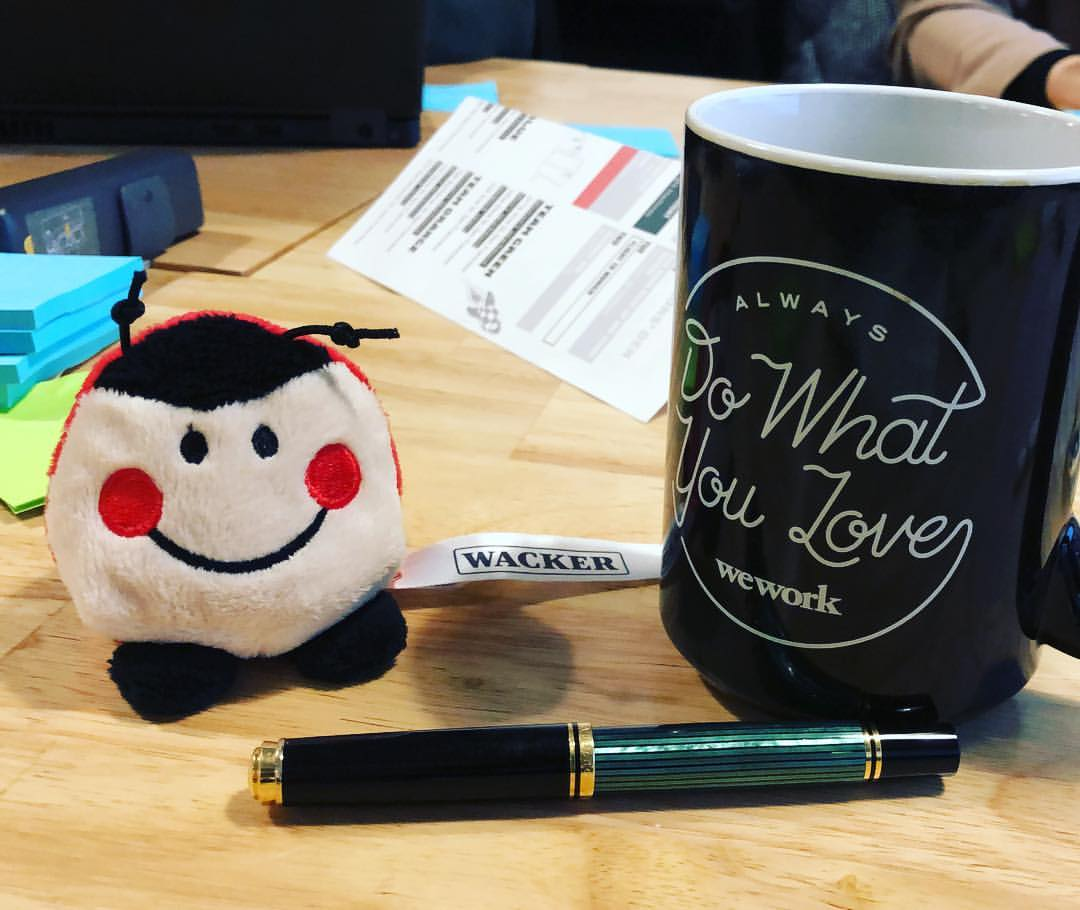wework: (713, 552, 847, 621)
